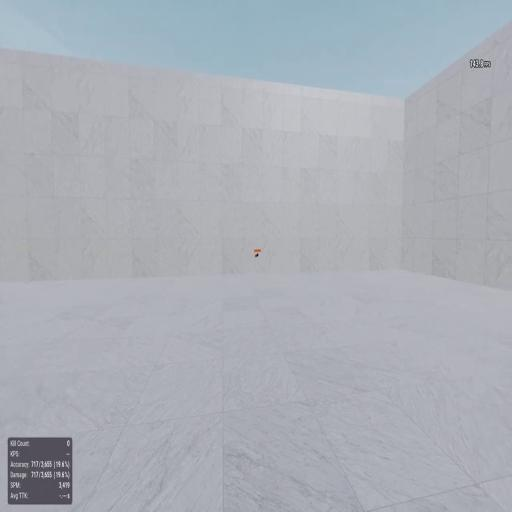Crosshair: (255, 254, 257, 258)
Target: (256, 253, 258, 257)
